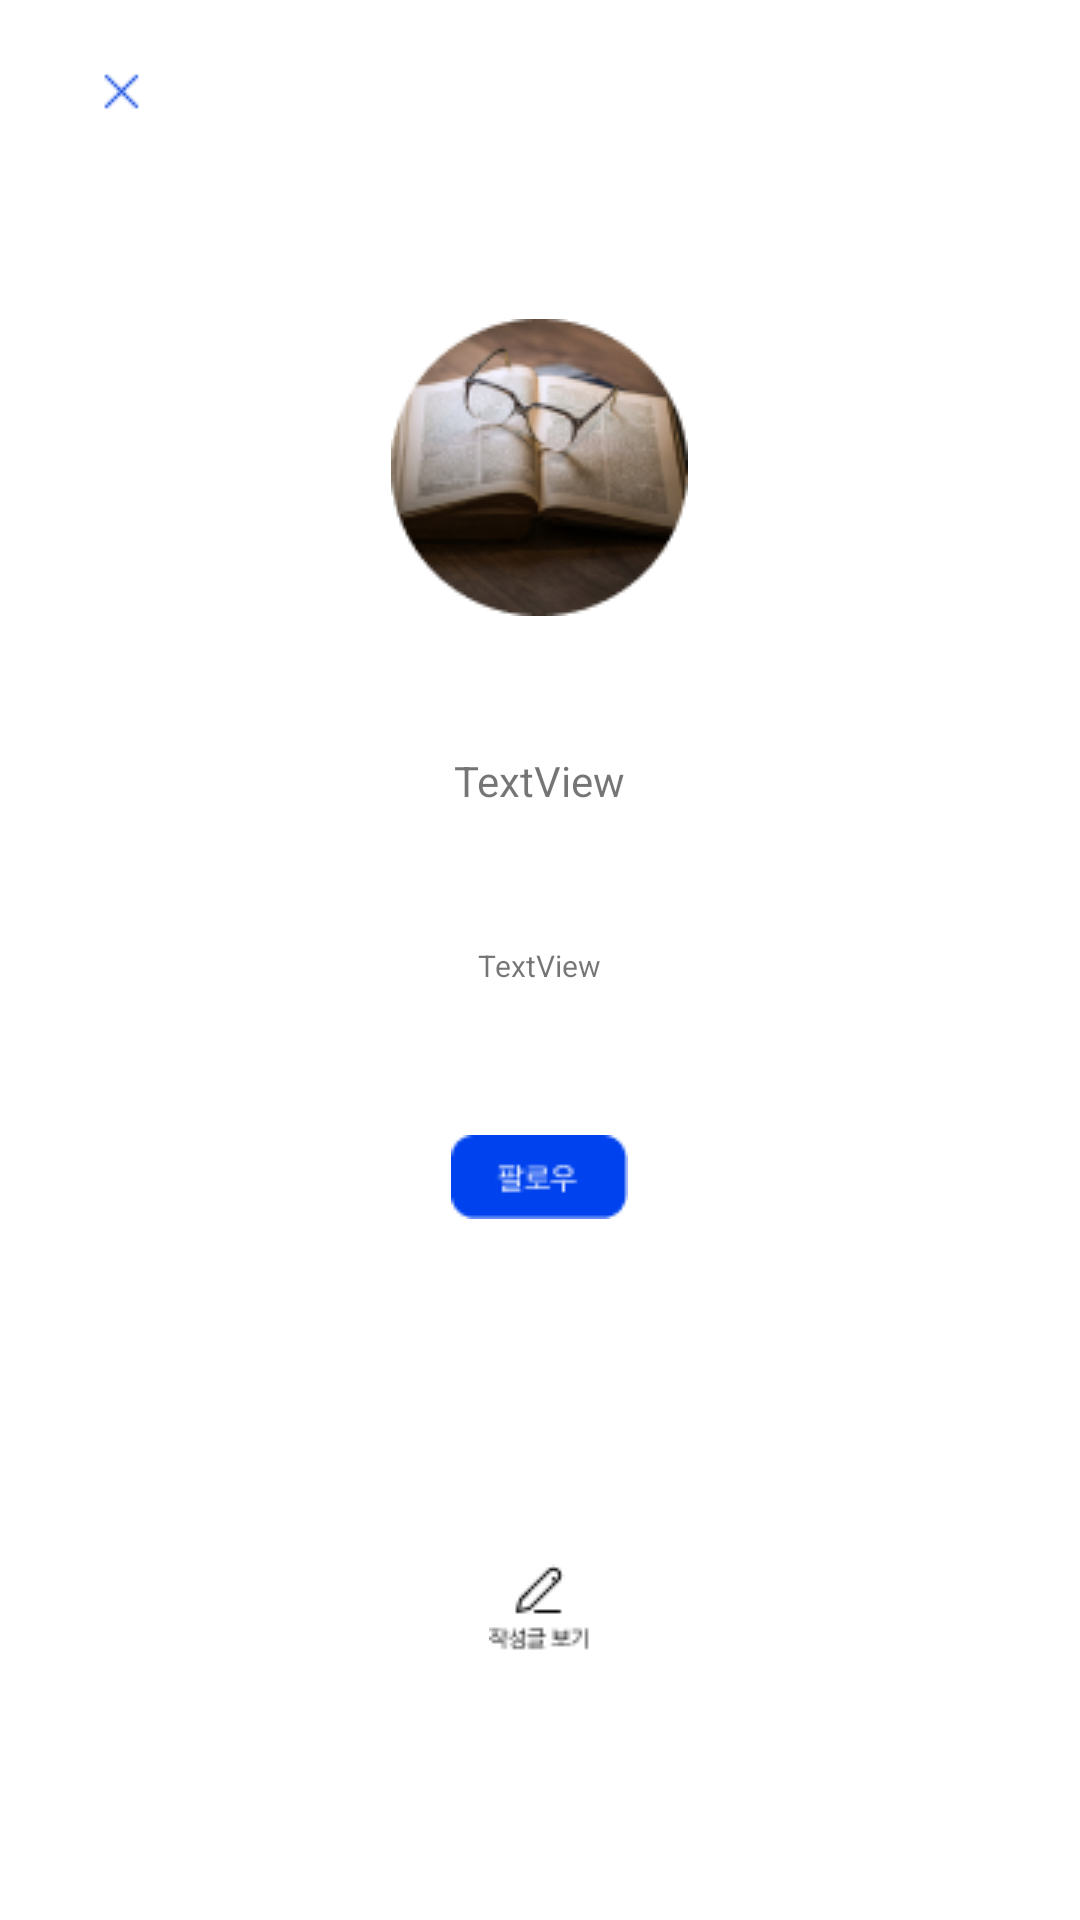

Point at icon controls on the screen. Image size 1080w x 1920h, points as point (x, y).
close: point (121, 91)
profile: point (539, 467)
